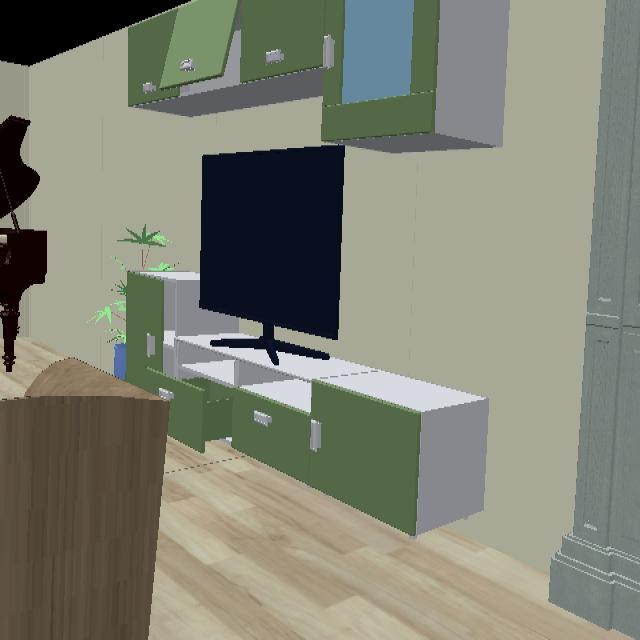cabinet: (125, 272, 489, 539), (549, 0, 640, 640), (128, 0, 511, 149)
monitor: (198, 145, 346, 344)
sofa: (0, 363, 171, 640)
